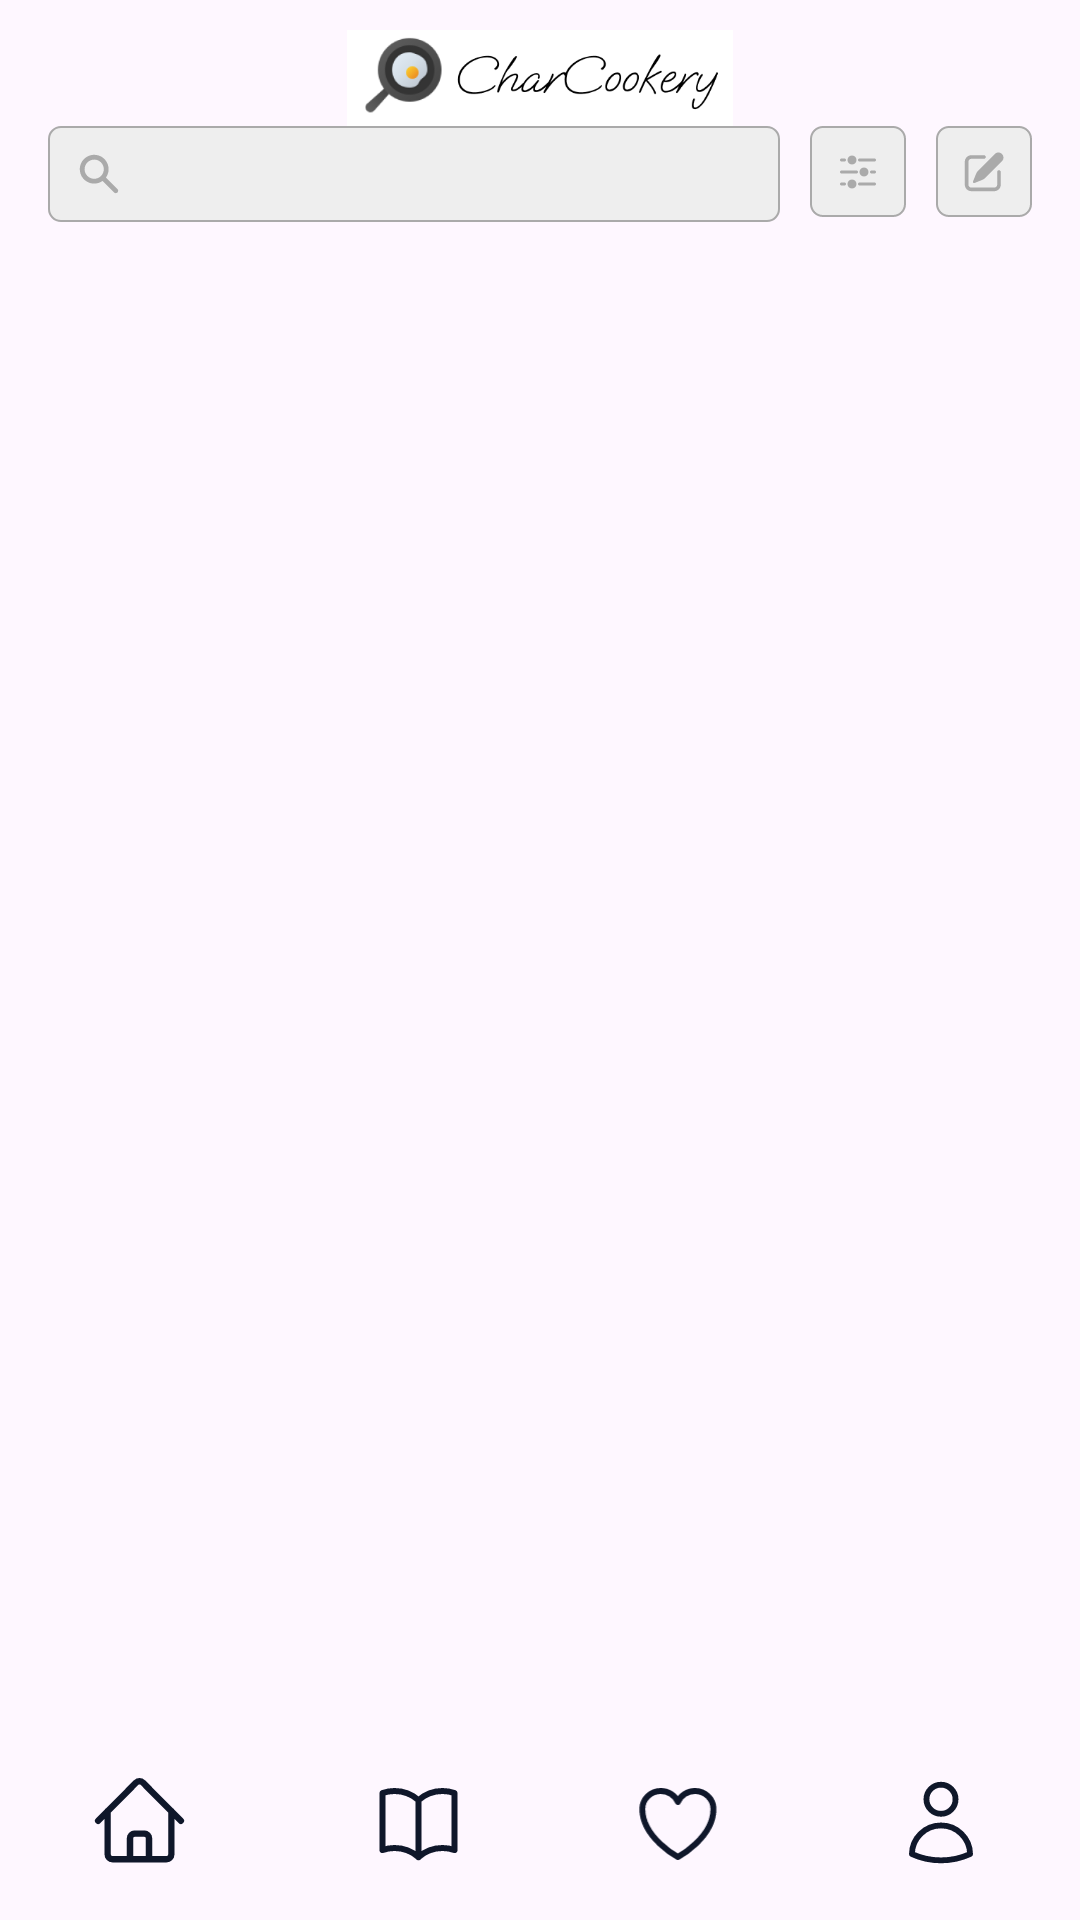

Screen size 1080w x 1920h. Icon name, then its center in pixels as (x=x, y=y):
adjustments: (x=858, y=171)
book: (x=418, y=1824)
heart: (x=678, y=1824)
home: (x=139, y=1820)
user: (x=941, y=1822)
write: (x=984, y=171)
